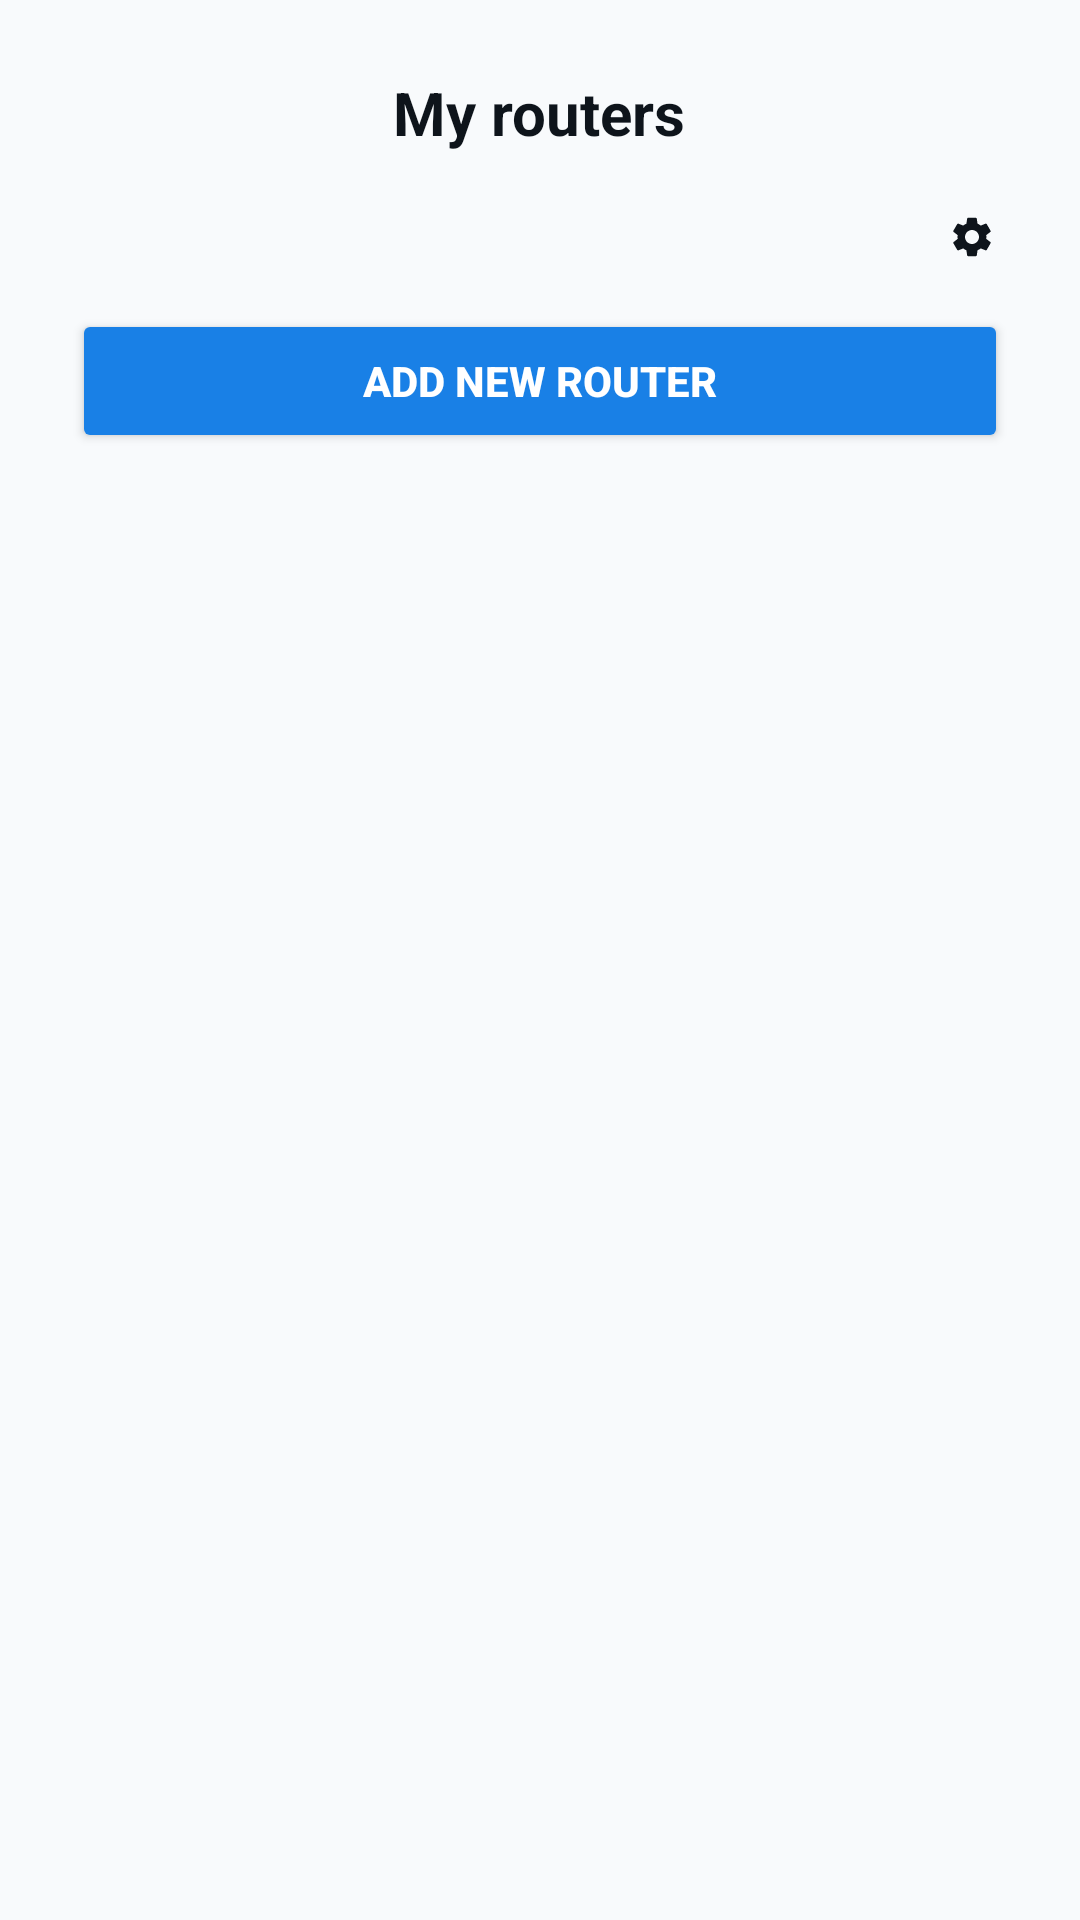

Locate icon controls on the screen. Image size 1080 x 1920, boxes as (left=x1, top=y1, right=x2, bottom=y2).
Settings: (left=953, top=217, right=991, bottom=257)
